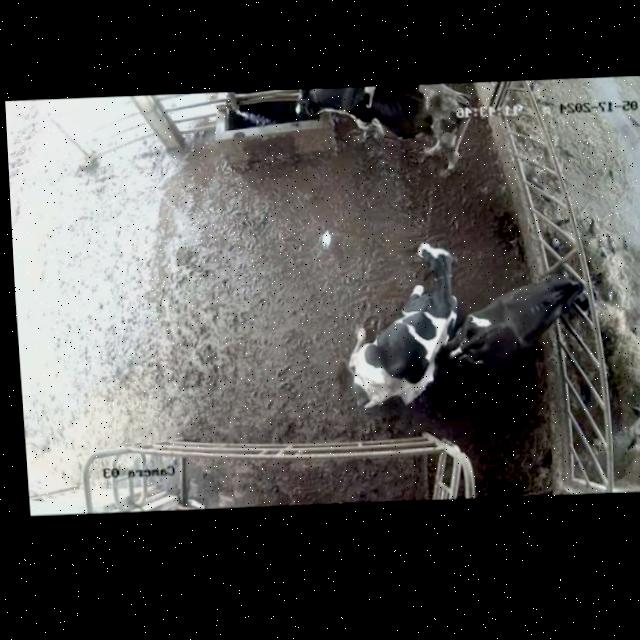drink: (265, 87, 349, 163)
eat: (519, 258, 637, 331)
lay: (326, 241, 466, 413)
